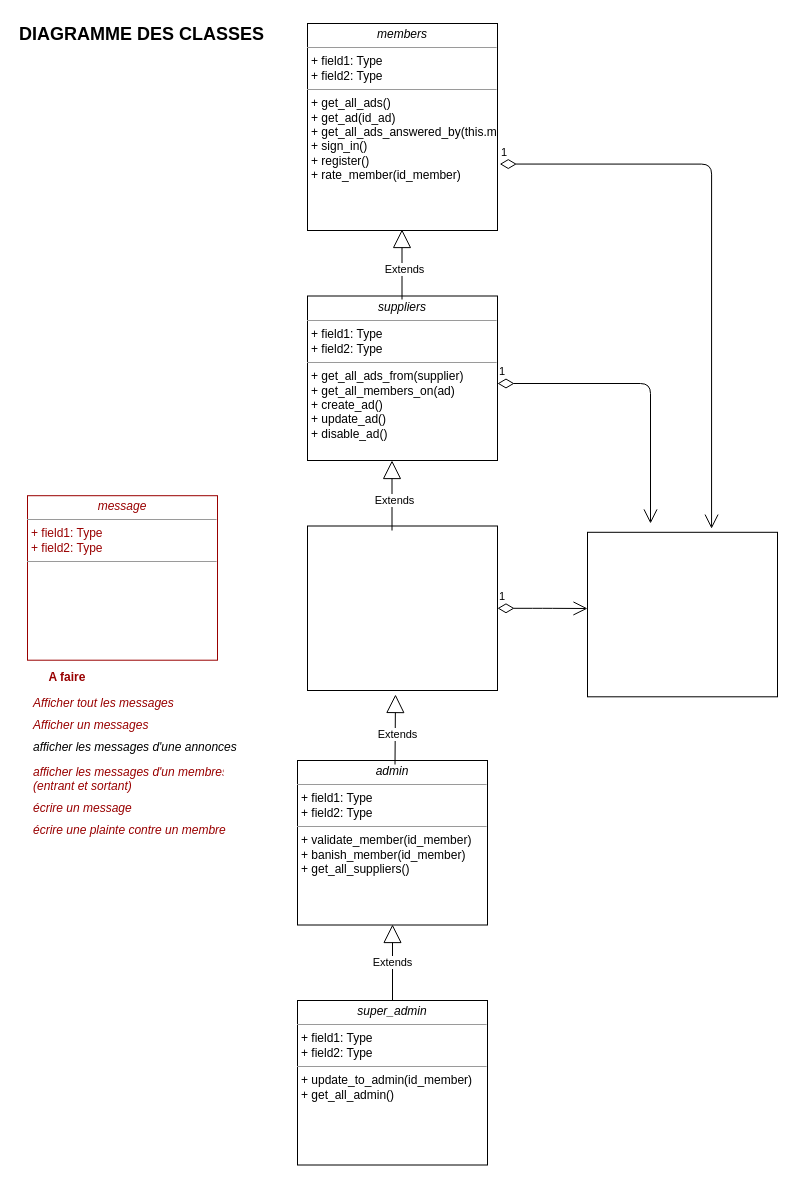
The diagram is 795 pixels wide and 1182 high, and some of its shapes have lost their labels. The centre of each missing label's shape, as x and y in pixels:
"annonce + field1: Type + field2: Type" goes at (x=682, y=614).
"golden_suppliers + field1: Type + field2: Type + get_all_customers()" goes at (x=402, y=607).
